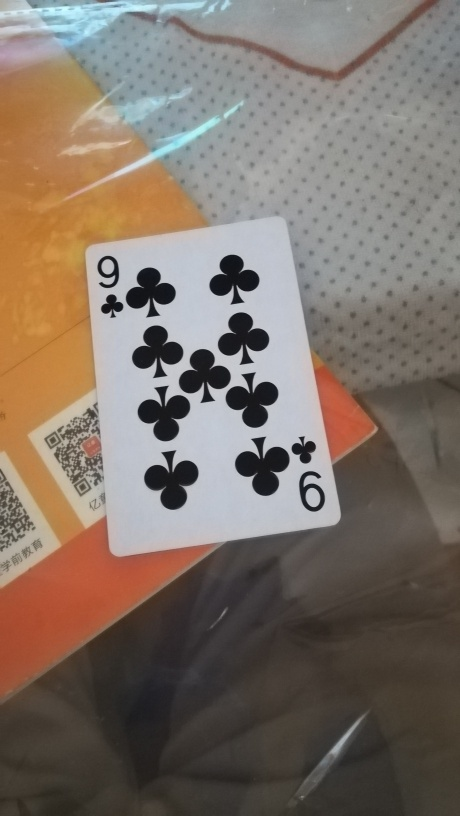mh 9: (80, 215, 342, 564)
